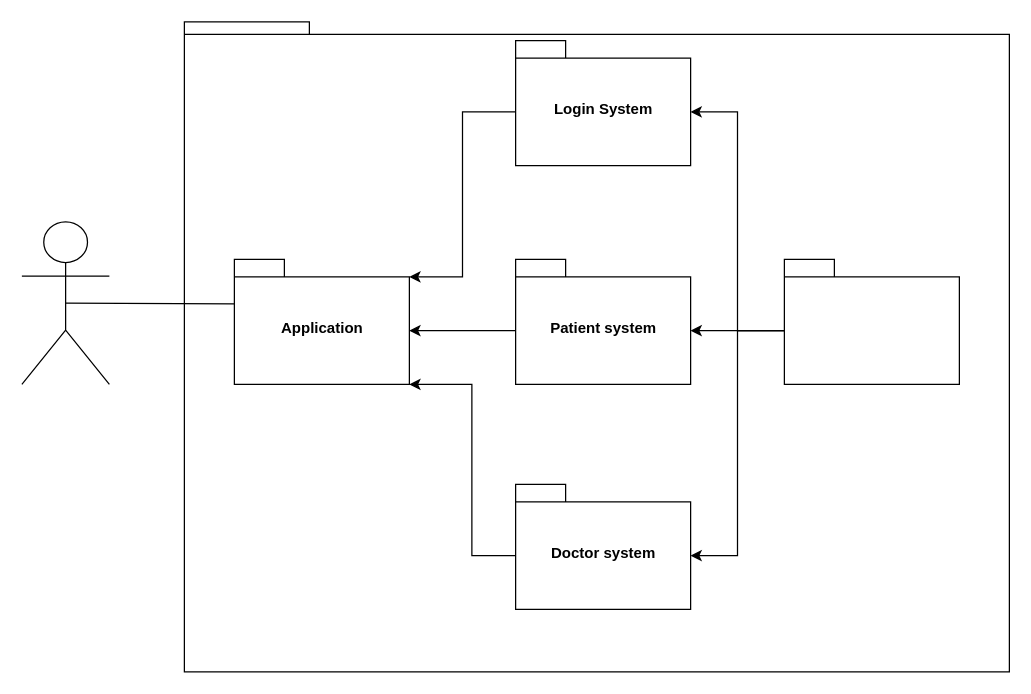
The diagram is 1031 pixels wide and 694 high, and some of its shapes have lost their labels. The shapes that lost their labels are listed below. From the top down, each one's centre as x and y in pixels, then its label:
point 65,302: User
point 871,321: Cloud
